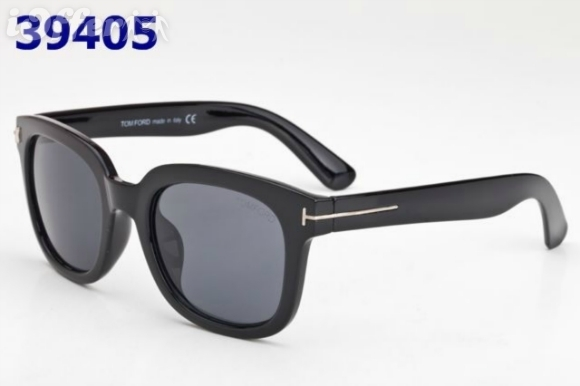sunglasses: (5, 97, 572, 348)
